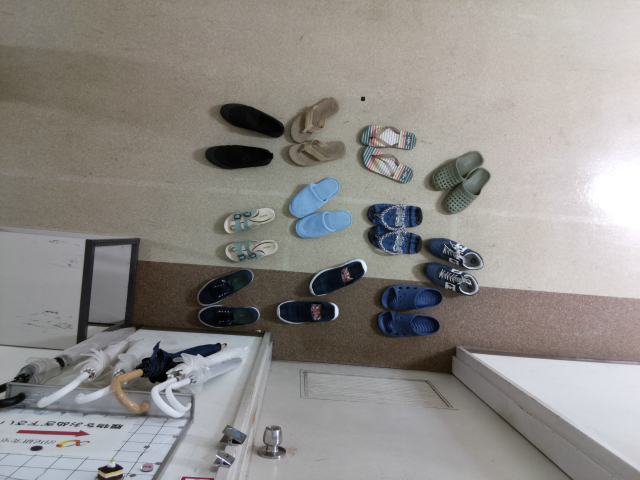Copy of Copy of Copy of Copy of Copy of Copy of Copy of Copy of Copy of Copy of: (286, 92, 339, 145), (439, 164, 492, 217), (424, 230, 486, 274), (426, 148, 485, 193), (358, 142, 413, 187), (422, 259, 485, 298), (378, 279, 442, 313), (375, 309, 443, 341), (355, 119, 419, 152), (362, 198, 423, 232), (286, 134, 347, 167), (364, 224, 425, 257)
Copy of Copy of Copy of Copy of Copy of Copy of Copy of Copy of Copy of shoe: (286, 175, 341, 219)
Copy of Copy of Copy of Copy of Copy of Copy of Copy of Copy of shoe: (293, 205, 351, 240)
Copy of Copy of Copy of Copy of Copy of Copy of Copy of shoe: (305, 254, 369, 297)
Copy of Copy of Copy of Copy of Copy of Copy of shoe: (275, 298, 341, 327)
Copy of Copy of Copy of Copy of Copy of shoe: (195, 301, 261, 331)
Copy of Copy of Copy of Copy of shoe: (189, 264, 255, 307)
Copy of Copy of Copy of shoe: (218, 233, 279, 263)
Copy of Copy of shoe: (216, 205, 276, 234)
Copy of shoe: (204, 142, 273, 170)
shoe: (216, 100, 286, 140)
